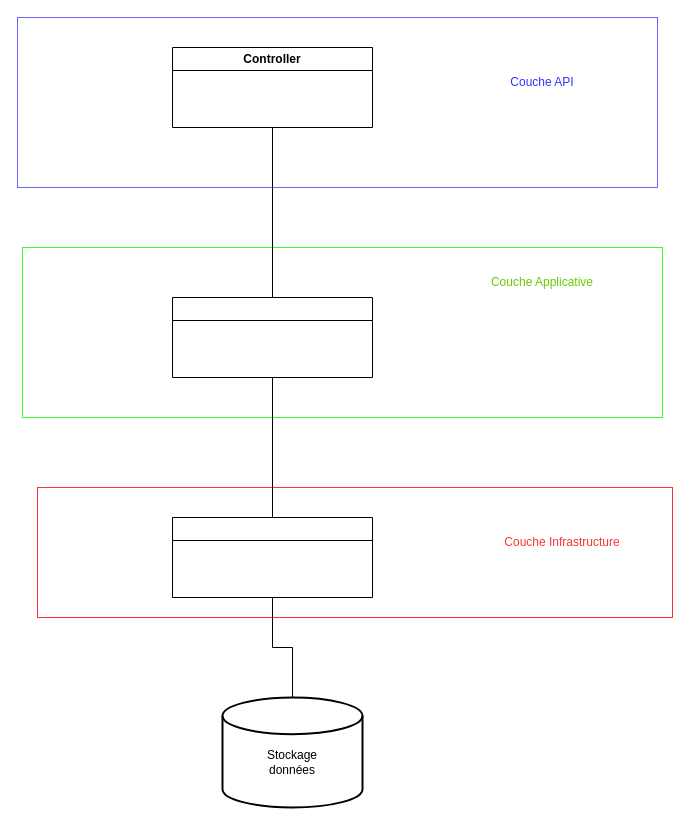
Some shapes in this 690 by 826 pixel diagram are drawn without their labels. Each missing label, with the centre of its shape:
"Dao" belongs at (x=272, y=557).
"Use case" belongs at (x=272, y=337).
